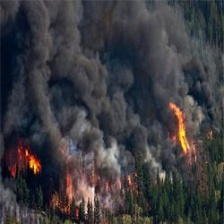fire: (175, 106, 198, 165), (9, 145, 52, 176), (65, 181, 73, 217)
